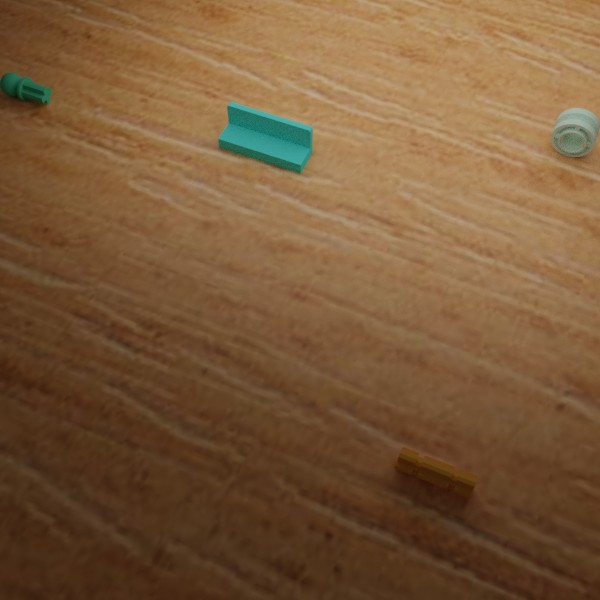lego: (218, 101, 312, 173), (394, 446, 477, 498), (550, 108, 599, 157), (0, 72, 52, 103)
